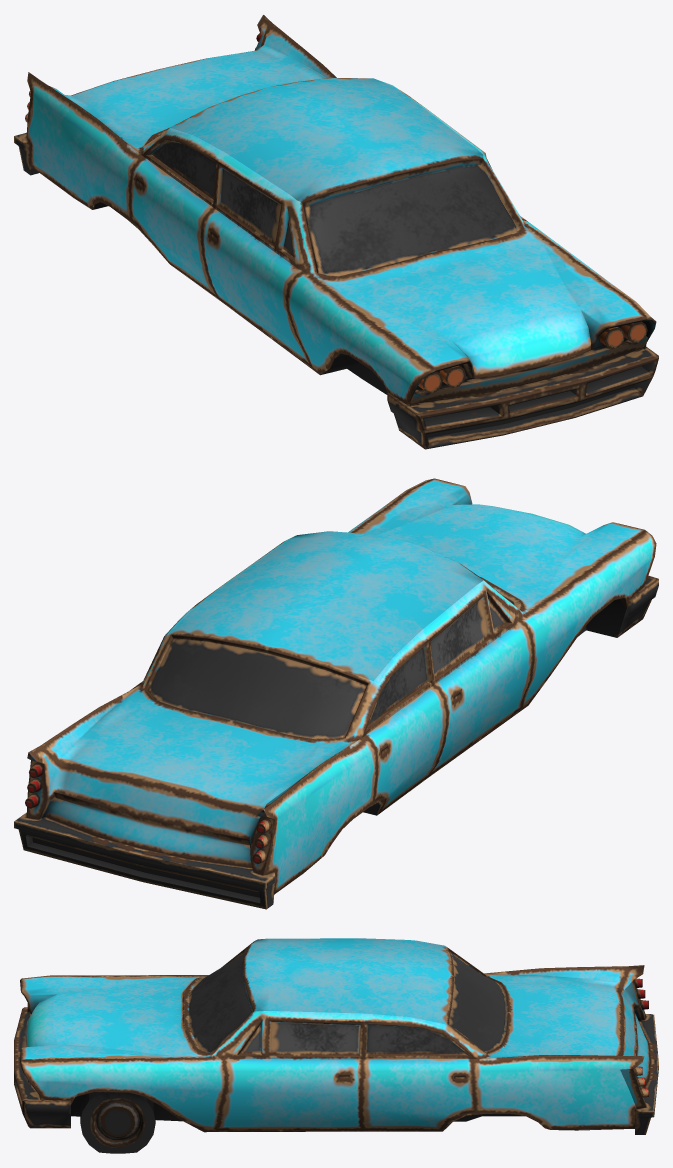
File: Rusted_Cars.fbx
3 renders of one model, top to bottom at view 1: azimuth 30°, elevation 25°; view 2: azimuth 150°, elevation 25°; view 3: azimuth 270°, elevation 25°, orthographic. The views are drawn at different scales.
Parts seen in each view (by area): view 1: Body; view 2: Body; view 3: Body, group1.
Part boxes in pixels (bbox=[...]): Body: bbox=[14, 15, 658, 449]; Body: bbox=[14, 478, 658, 909]; Body: bbox=[14, 938, 658, 1134]; group1: bbox=[80, 1092, 155, 1153].
Size of the model in its own units: 50.44 by 35.24 by 141.
